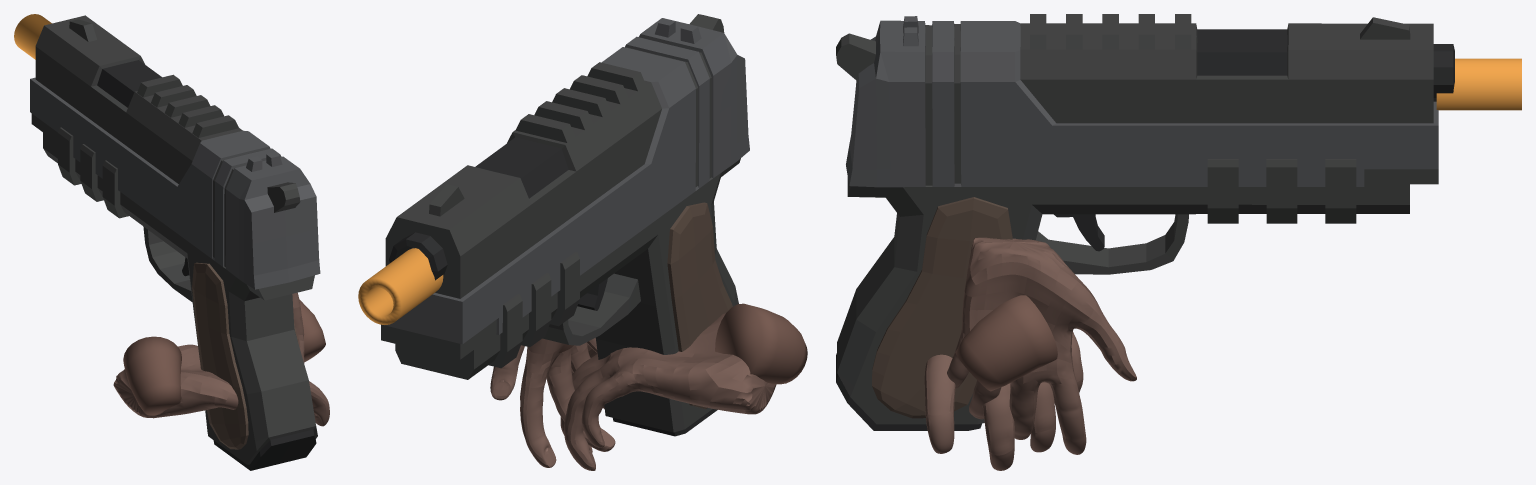
Rendered from tempo.glb.
3 renders of one model, left to right at view 1: azimuth 30°, elevation 25°; view 2: azimuth 150°, elevation 25°; view 3: azimuth 270°, elevation 25°, orthographic. The views are drawn at different scales.
Visible parts, largest first — view 1: AUTHORED m1911 ChargingHandleGeometry, AUTHORED m1911 WeaponBodyGeometry, tempo TWO_HAND LEFT REAL ANATOMICAL CC0 HAND, tempo TWO_HAND LEFT short wrist stub, AIRSOFT_ORANGE_TIP_07 - fitted hollow muzzle sleeve, tempo ONE_HAND RIGHT short wrist stub, tempo ONE_HAND RIGHT REAL ANATOMICAL CC0 HAND; view 2: AUTHORED m1911 ChargingHandleGeometry, AUTHORED m1911 WeaponBodyGeometry, tempo TWO_HAND LEFT REAL ANATOMICAL CC0 HAND, tempo ONE_HAND RIGHT REAL ANATOMICAL CC0 HAND, tempo TWO_HAND LEFT short wrist stub, AIRSOFT_ORANGE_TIP_07 - fitted hollow muzzle sleeve; view 3: AUTHORED m1911 ChargingHandleGeometry, AUTHORED m1911 WeaponBodyGeometry, tempo ONE_HAND RIGHT REAL ANATOMICAL CC0 HAND, tempo TWO_HAND LEFT REAL ANATOMICAL CC0 HAND, tempo ONE_HAND RIGHT short wrist stub, AIRSOFT_ORANGE_TIP_07 - fitted hollow muzzle sleeve.
Part boxes in pixels (box(x1,y1,x2,y2)): AUTHORED m1911 ChargingHandleGeometry: box(30, 15, 320, 289); AUTHORED m1911 WeaponBodyGeometry: box(43, 127, 317, 470); tempo TWO_HAND LEFT REAL ANATOMICAL CC0 HAND: box(113, 344, 329, 426); tempo TWO_HAND LEFT short wrist stub: box(123, 336, 181, 415); AIRSOFT_ORANGE_TIP_07 - fitted hollow muzzle sleeve: box(14, 14, 51, 59); tempo ONE_HAND RIGHT short wrist stub: box(299, 299, 325, 362); tempo ONE_HAND RIGHT REAL ANATOMICAL CC0 HAND: box(292, 292, 304, 363); AUTHORED m1911 ChargingHandleGeometry: box(381, 18, 749, 359); AUTHORED m1911 WeaponBodyGeometry: box(389, 14, 740, 436); tempo TWO_HAND LEFT REAL ANATOMICAL CC0 HAND: box(560, 313, 776, 470); tempo ONE_HAND RIGHT REAL ANATOMICAL CC0 HAND: box(490, 338, 615, 467); tempo TWO_HAND LEFT short wrist stub: box(715, 303, 807, 384); AIRSOFT_ORANGE_TIP_07 - fitted hollow muzzle sleeve: box(358, 248, 443, 324); AUTHORED m1911 ChargingHandleGeometry: box(846, 14, 1438, 187); AUTHORED m1911 WeaponBodyGeometry: box(836, 33, 1454, 430); tempo ONE_HAND RIGHT REAL ANATOMICAL CC0 HAND: box(947, 237, 1136, 454); tempo TWO_HAND LEFT REAL ANATOMICAL CC0 HAND: box(924, 332, 1083, 470); tempo ONE_HAND RIGHT short wrist stub: box(955, 295, 1057, 391); AIRSOFT_ORANGE_TIP_07 - fitted hollow muzzle sleeve: box(1436, 58, 1521, 110).
Bounding box in the file's own units: 0.2322 × 0.3638 × 0.532.
